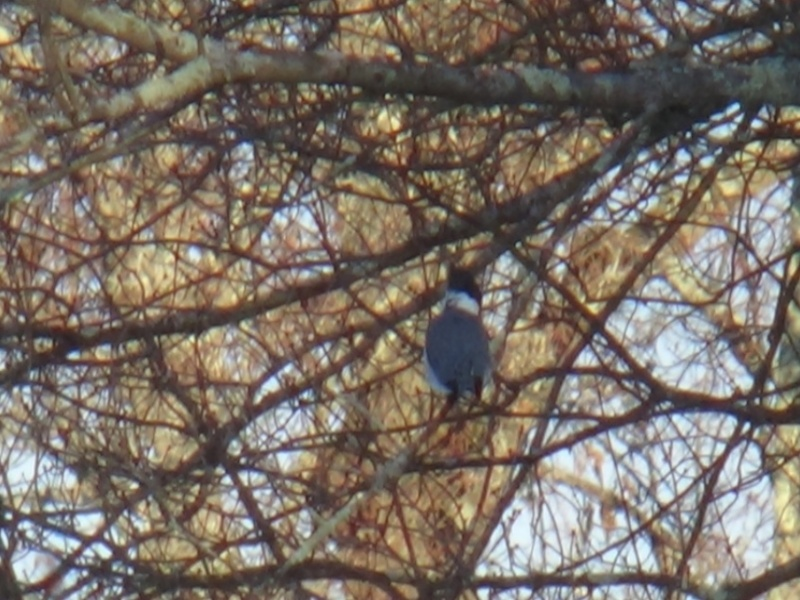kingfisher: (412, 260, 501, 410)
